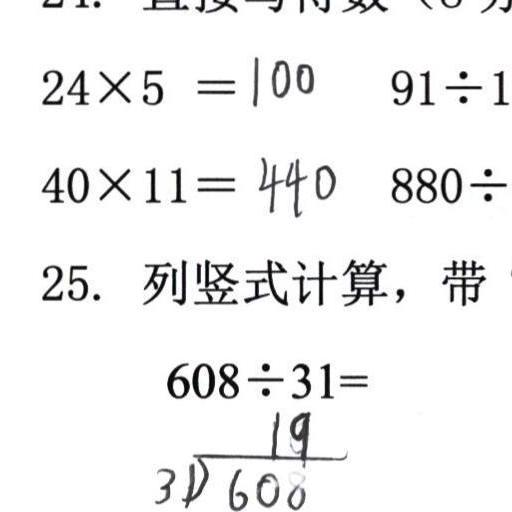ans: (254, 152, 337, 218), (245, 50, 314, 104)
